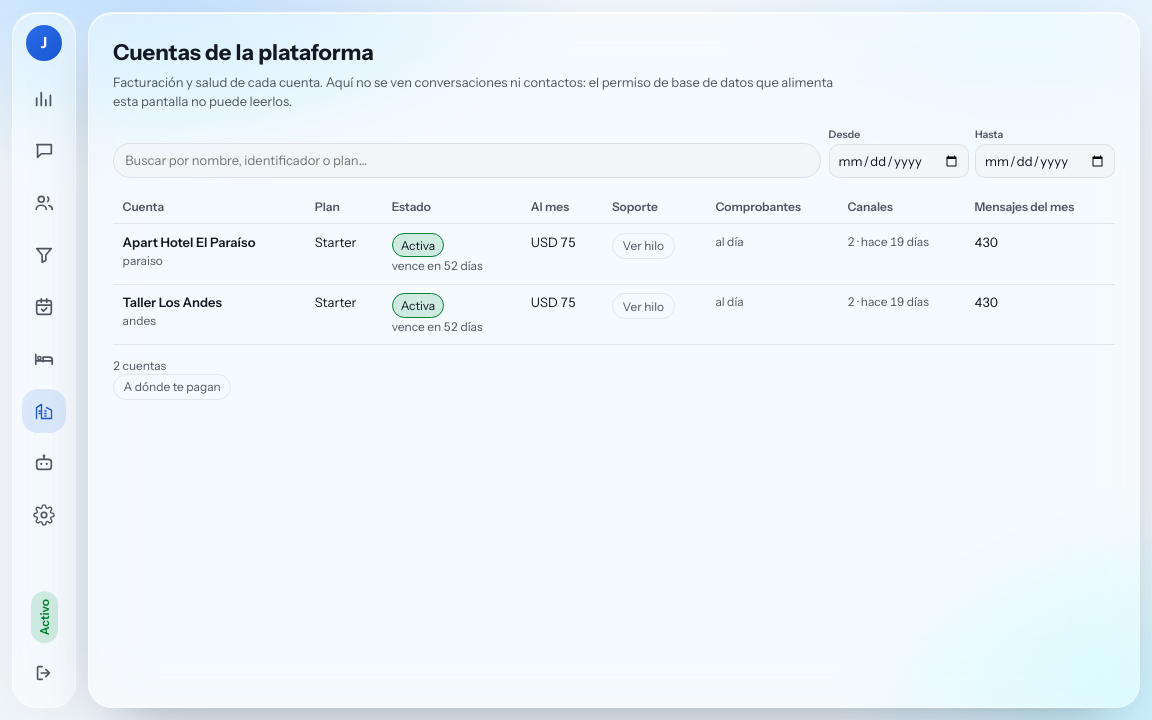
Test: Consola del operador › se puede buscar entre las cuentas
Expected: the text "Taller Los Andes" is shown, [123,294,222,310]
Type "paraiso" into the search field. click: (467, 160)
box: [113,143,821,178]
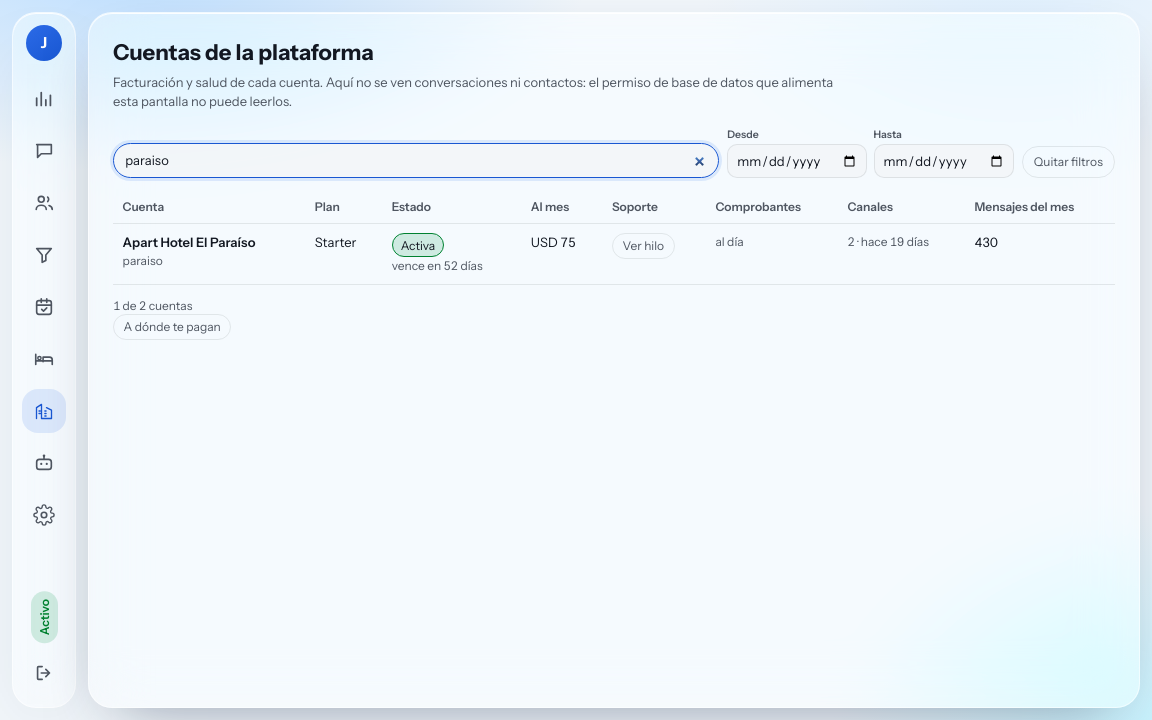
Expected: the text "Apart Hotel El Paraíso" is shown, [123,234,256,250]
Expected: the text "Taller Los Andes" is gone
